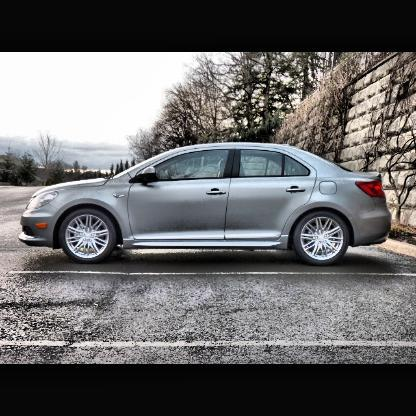Suzuki Kizashi Sedan 2012: (15, 137, 398, 268)
